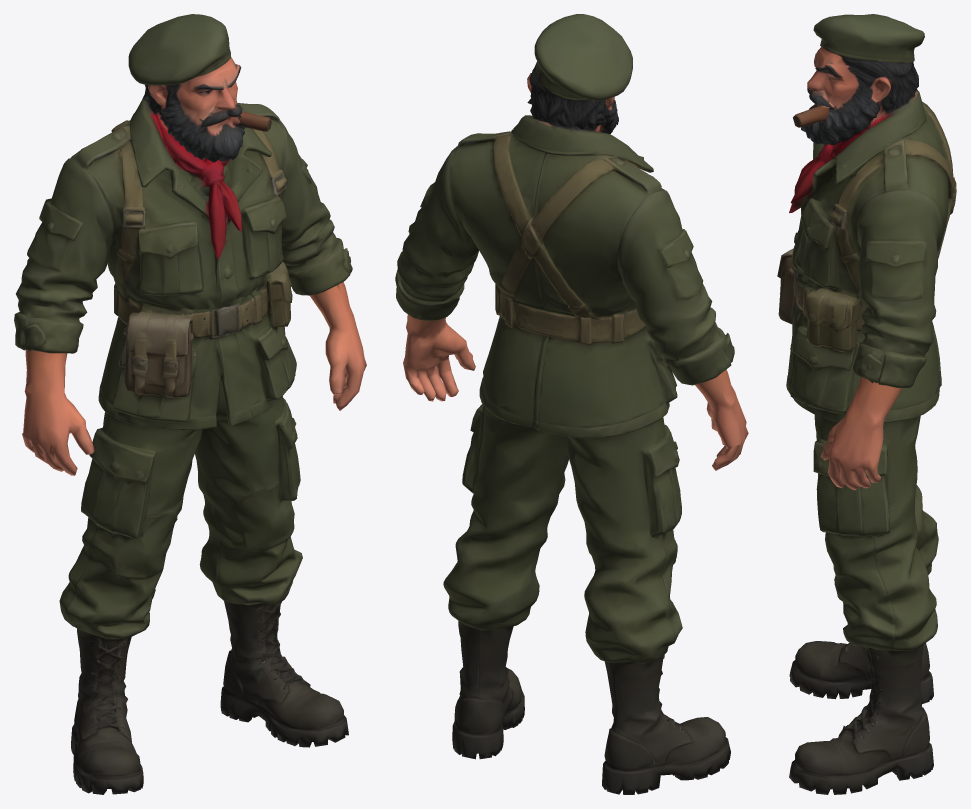
Rendered from castro.glb.
The picture shows the model from 3 angles, left to right: view 1: azimuth 30°, elevation 25°; view 2: azimuth 150°, elevation 25°; view 3: azimuth 270°, elevation 25°; orthographic projection.
Visible parts, largest first — view 1: tripo_node_9745fbca-2c56-48d6-aff7-b4f0ea25a19a; view 2: tripo_node_9745fbca-2c56-48d6-aff7-b4f0ea25a19a; view 3: tripo_node_9745fbca-2c56-48d6-aff7-b4f0ea25a19a.
Part boxes in pixels (left/top/right/bottom): tripo_node_9745fbca-2c56-48d6-aff7-b4f0ea25a19a: left=14, top=14, right=366, bottom=794; tripo_node_9745fbca-2c56-48d6-aff7-b4f0ea25a19a: left=395, top=14, right=748, bottom=794; tripo_node_9745fbca-2c56-48d6-aff7-b4f0ea25a19a: left=777, top=14, right=956, bottom=794.
Bounding box in the file's own units: 0.4744 × 0.9788 × 0.2211.
Materials: 1 (1 with a texture image).
